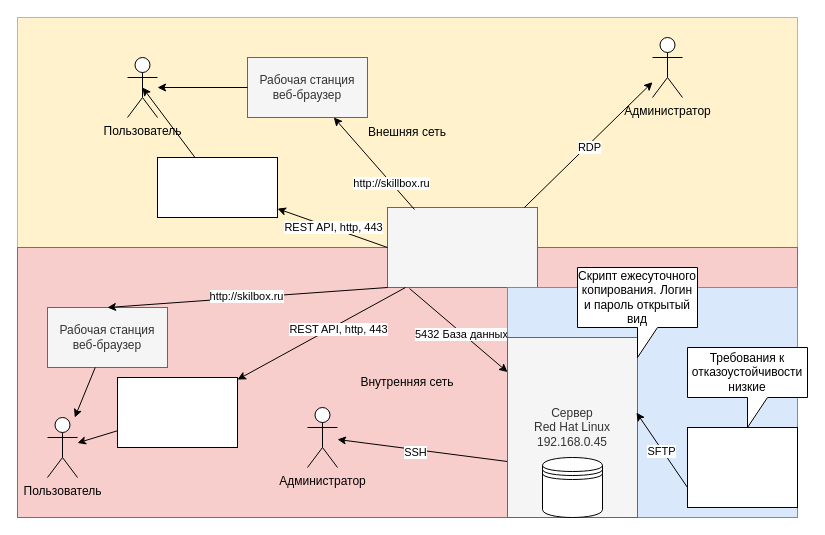
This 825x535 diagram has some shape labels left out. Here are the shapes that lost their labels. From the top down, the centre of each, then its label:
At (217,187): "Мобильное приложение ФИО,паспорт,фото".
At (462,247): "Веб-сервис Windows Server 2018 Антивирус Касперского".
At (177,412): "Мобильное приложение ФИО,паспорт, фото".
At (742,467): "Файловое хранилище - облако Резервные копии БД".
